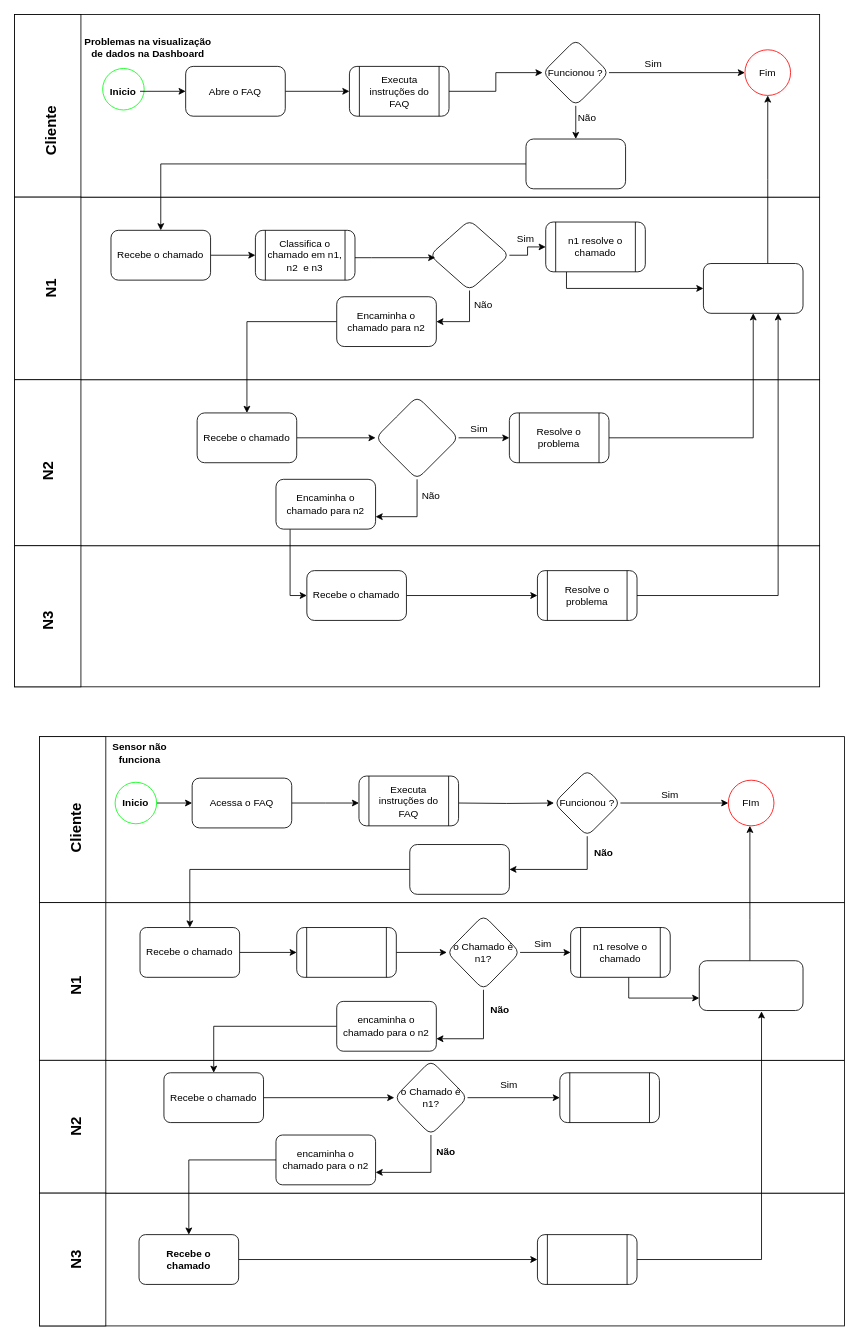
Some shapes in this 859 by 1340 pixel diagram are drawn without their labels. Here are the shapes that lost their labels. From the top down, the centre of each, then its label:
point 575,163: Abre chamado na ferramenta de suporte
point 469,254: o chamado é n1
point 753,288: atualizar a base de dados de problemas tecnologias
point 417,437: o chamado é n2?
point 459,869: Abre no chamado na ferramenta de suporte
point 346,952: classifica o chamado em n1, n2 ou n3
point 750,985: Atualizar base de dados de solução de problemas técnicos
point 609,1097: n2 resolve o chamado
point 587,1259: n3 resolve o chamado
